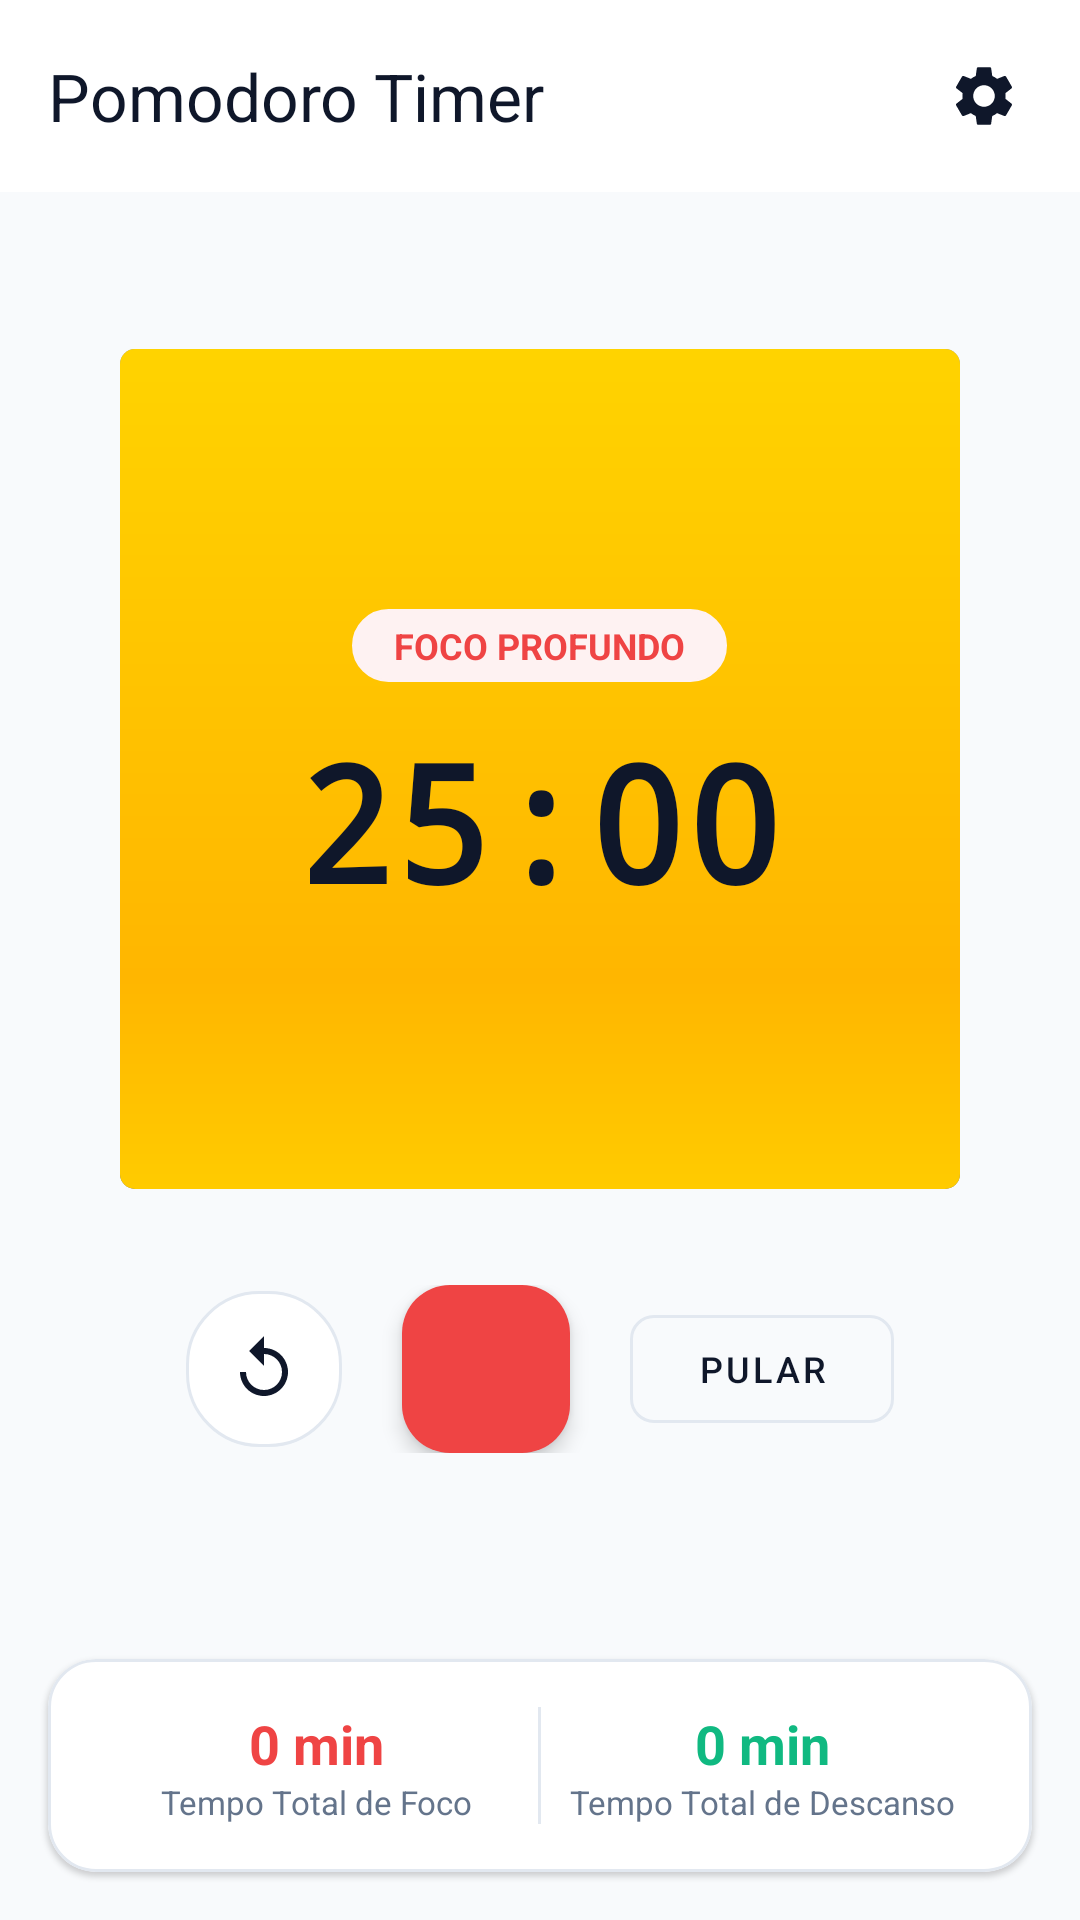

Named icons in this screenshot (1080px x 1920px) and their centers, [x,y]:
Configurar Tempos: [984,96]
Reiniciar: [264,1366]
